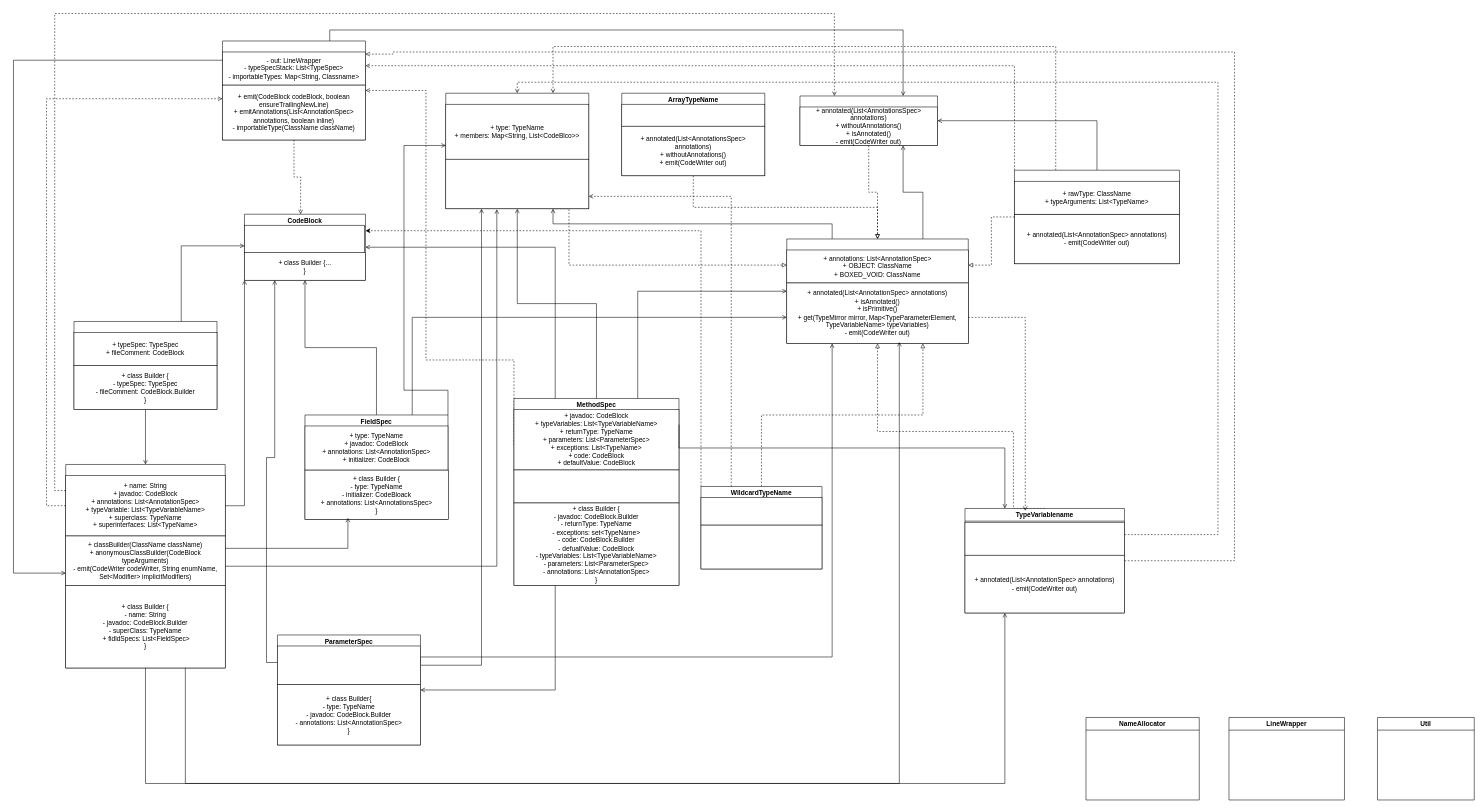
Image size: 1484x810. Some labels were removed from this diagram. The box of each missing label's shape, as (x1, y1, x2, y2) in pixels:
+ annotated(List>AnnotationSpec> annotations) - emit(CodeWriter out): (700, 524, 822, 569)
+ annotations: List<AnnotationSpec + type: TypeName + javadoc: CodeBlock: (277, 645, 420, 684)
+ class Builder { - type: TypeName - members: Map<String, List<CodeBlock>> }: (445, 159, 589, 209)
+ componentType: TypeName: (621, 104, 765, 126)
+ name: String + bounds: List<TypeName>: (964, 522, 1124, 555)
+ upperBounds: List<TypeName> + lowerBounds: List<TypeName>: (700, 497, 822, 525)
- emit(CodeWriter codewriter,...): (513, 469, 679, 503)
- formatParts: List<String> - args: List<Object>: (244, 225, 364, 253)
AnnotationSpec: (445, 93, 589, 209)
ClassName: (799, 95, 937, 145)
CodeWriter: (222, 40, 365, 140)
JavaFile: (73, 321, 217, 409)
ParameterizedTypeName: (1014, 170, 1179, 264)
TypeName: (786, 238, 968, 343)
TypeSpec: (65, 464, 225, 668)
